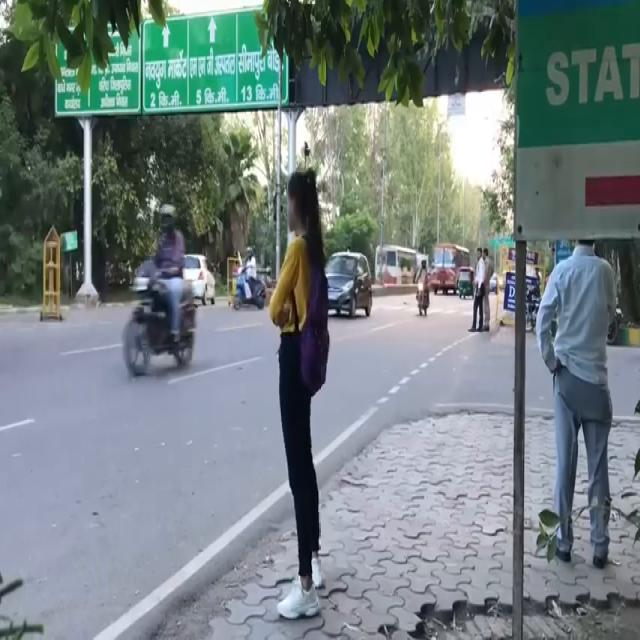MOTORCYCLE: (119, 274, 197, 380), (234, 266, 267, 308), (418, 268, 431, 316)
